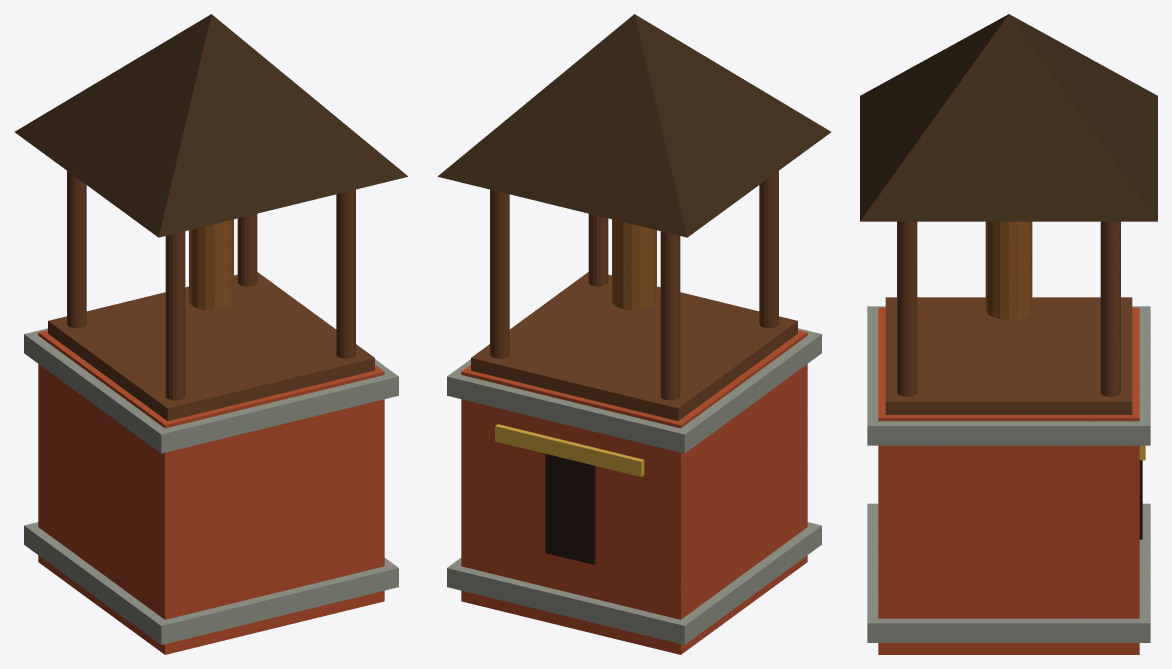
File: bale-kulkul.glb
3 renders of one model, left to right at view 1: azimuth 30°, elevation 25°; view 2: azimuth 150°, elevation 25°; view 3: azimuth 270°, elevation 25°, orthographic. The views are drawn at different scales.
Parts seen in each view (by area): view 1: Cube; view 2: Cube; view 3: Cube.
Boxes of the visible parts, x1,y1,x2,y2 form: Cube: (14,14,407,654); Cube: (438,14,831,654); Cube: (860,14,1157,654).
Bounding box in the file's own units: 0.4608 × 1 × 0.4608.
Materials: 1 (1 with a texture image).
